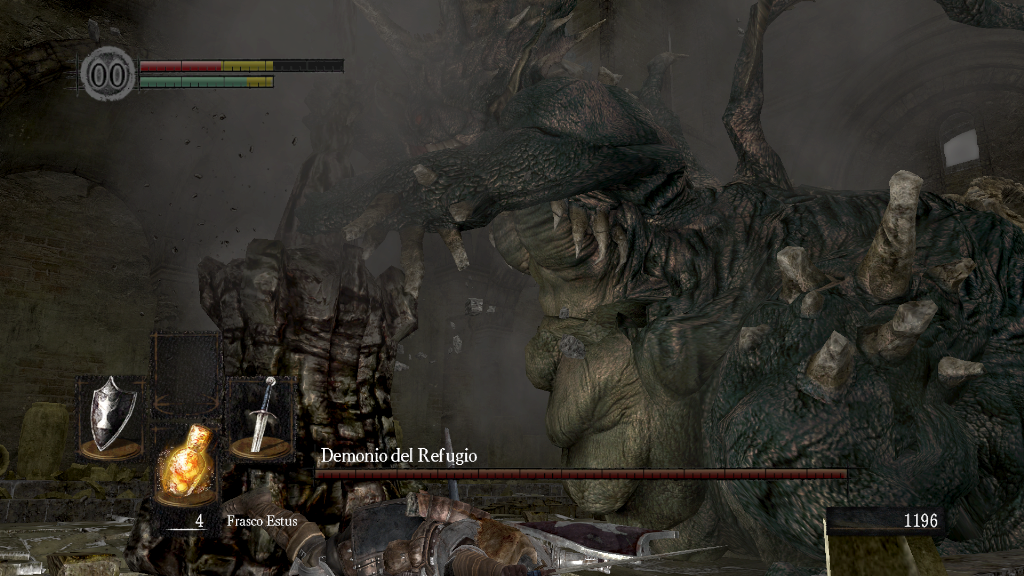asylumDemon: (120, 2, 1024, 573)
bossHP: (314, 469, 847, 479)
health: (138, 58, 343, 71)
humanity: (80, 45, 136, 102)
player: (221, 495, 727, 576)
souls: (825, 506, 945, 536)
stamina: (138, 74, 274, 88)
